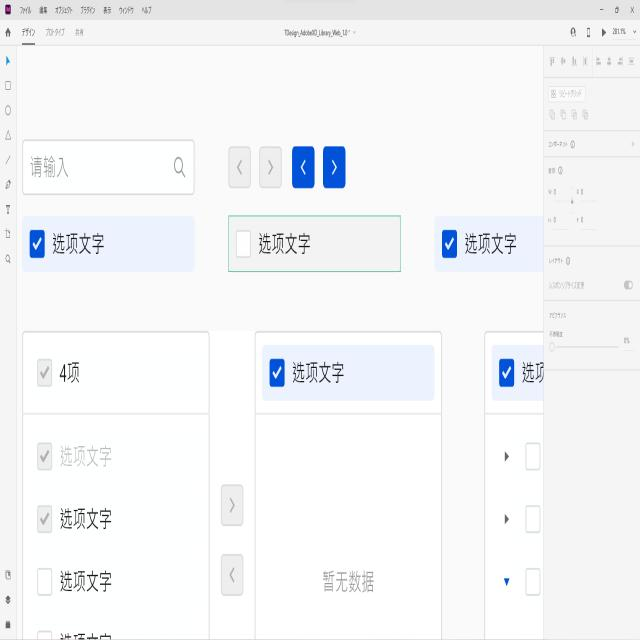checkbox: (36, 356, 54, 389), (27, 229, 46, 258), (36, 504, 53, 536), (441, 229, 458, 259), (498, 358, 515, 388), (269, 357, 285, 388), (37, 440, 53, 471)
